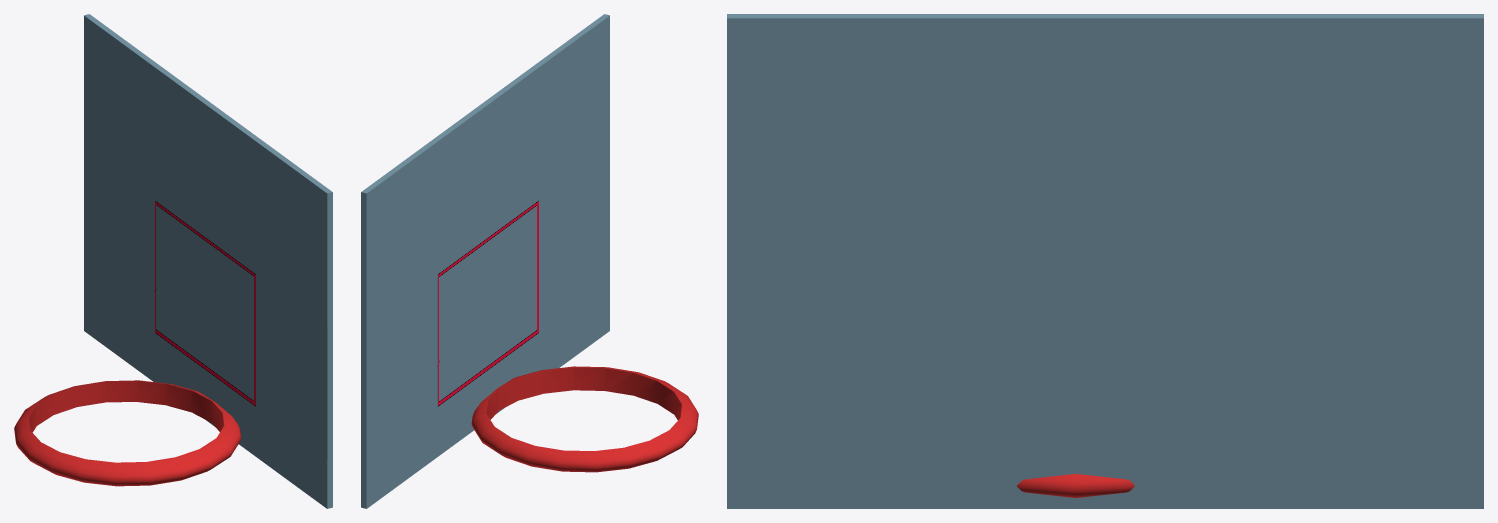
Rendered from canasta.obj.
3 renders of one model, left to right at view 1: azimuth 30°, elevation 25°; view 2: azimuth 150°, elevation 25°; view 3: azimuth 270°, elevation 25°, orthographic. The views are drawn at different scales.
Parts seen in each view (by area): view 1: polySurface68; view 2: polySurface68; view 3: polySurface68.
Boxes of the visible parts, x1=… form: polySurface68: x1=14, y1=14, x2=332, y2=508; polySurface68: x1=361, y1=14, x2=698, y2=508; polySurface68: x1=727, y1=14, x2=1483, y2=508.
Bounding box in the file's own units: 2.88 × 4.38 × 6.13.
Materials: 2 (2 with a texture image).
